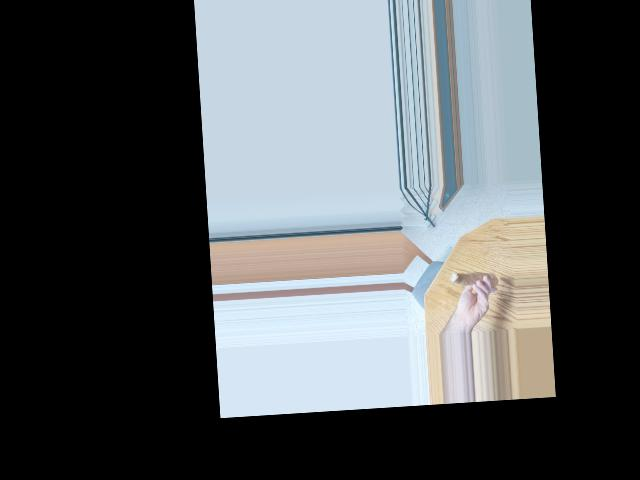sweet_potato: (448, 268, 497, 292)
